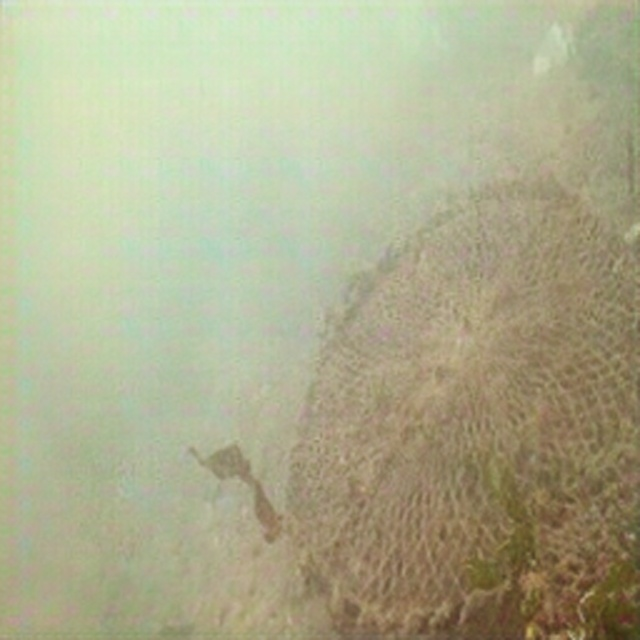mine: (285, 168, 640, 638)
